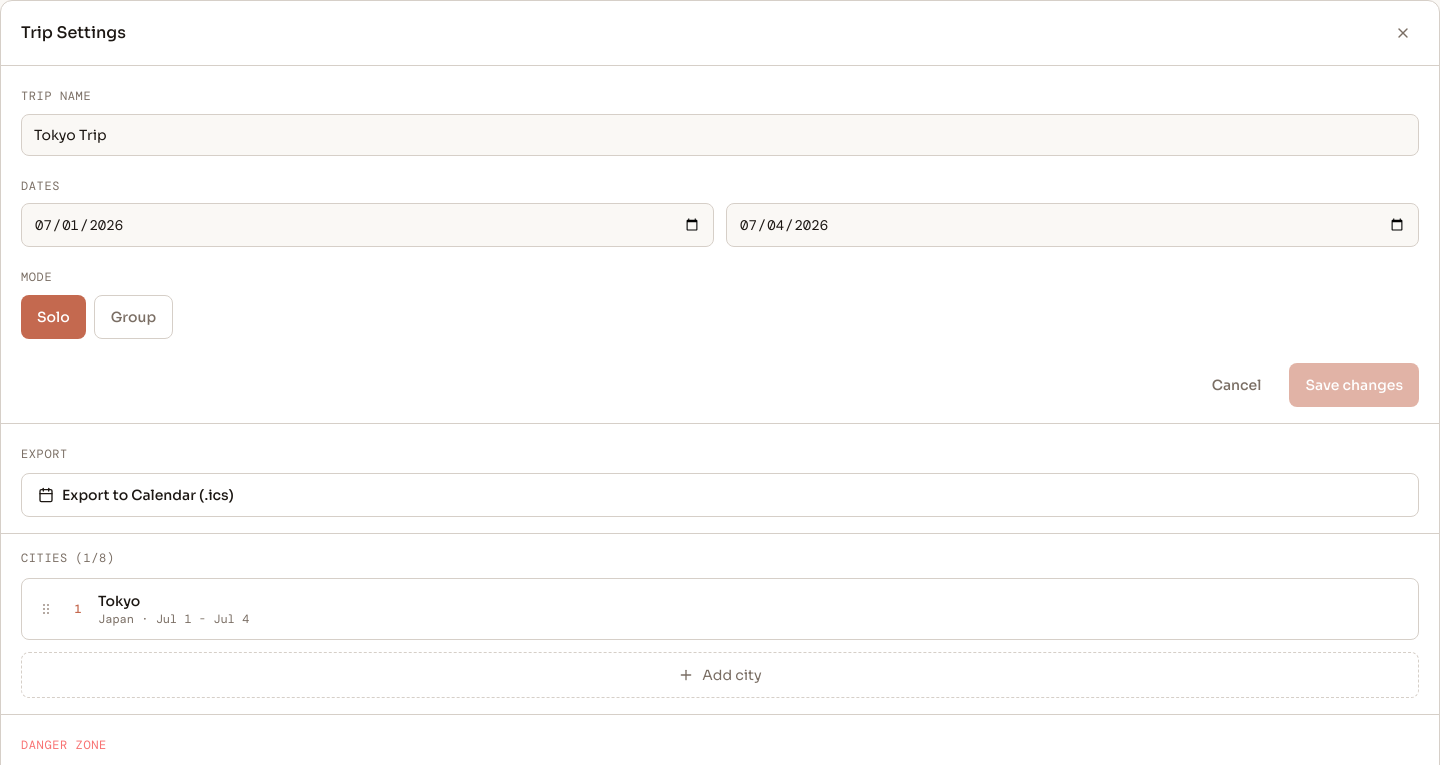
Test: TripSettings — date validation errors › shows error when end date is set before start date and save is clicked
Set end date before start date
Type "2026-06-28" into the 2nd date field named "End date".
click(1072, 225); type("2026-06-28")  # box [726,203,1419,247]
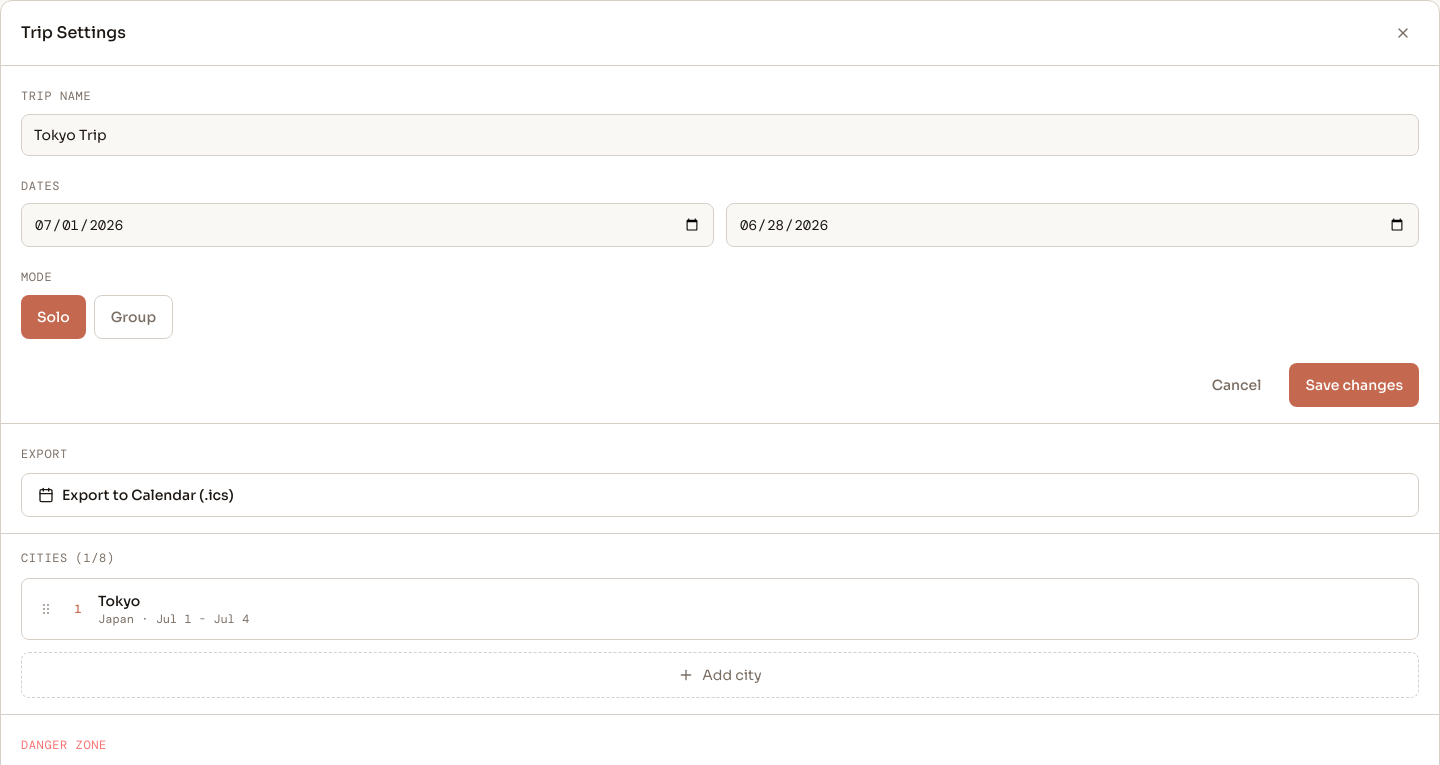
Click the button "Save changes".
click(1354, 385)  # box [1289,363,1419,407]
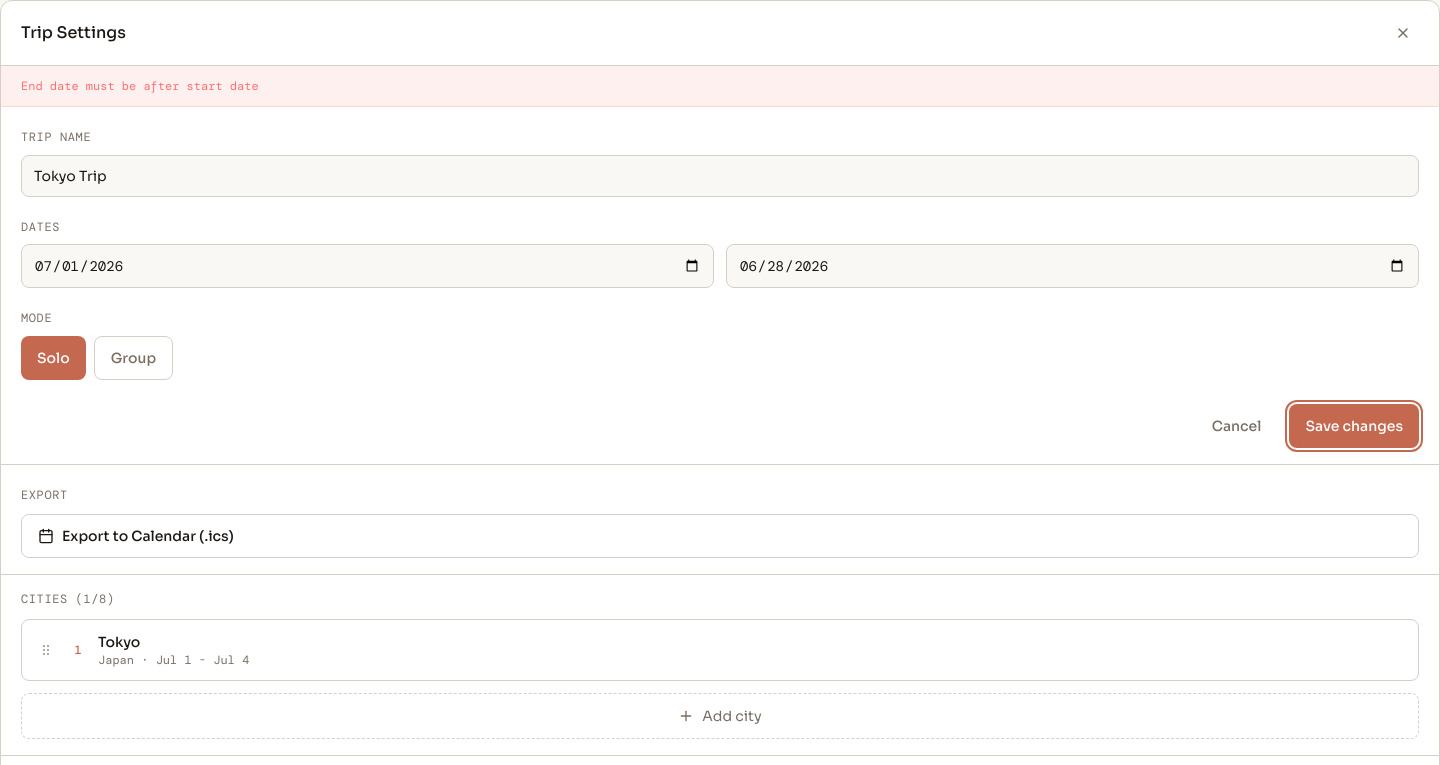
Result: the text "End date must be after start date" is shown at [21,78,259,94]
